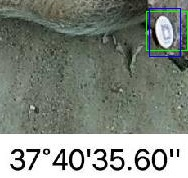text: (146, 11, 187, 50)
